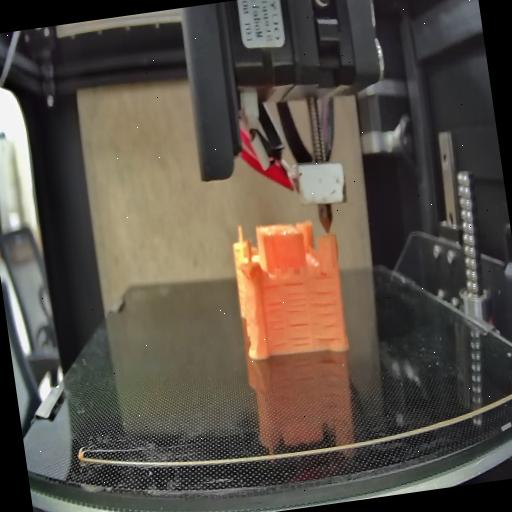cracks: (310, 286, 346, 347), (264, 298, 288, 352), (283, 280, 309, 317), (289, 320, 311, 348), (260, 280, 281, 290)
